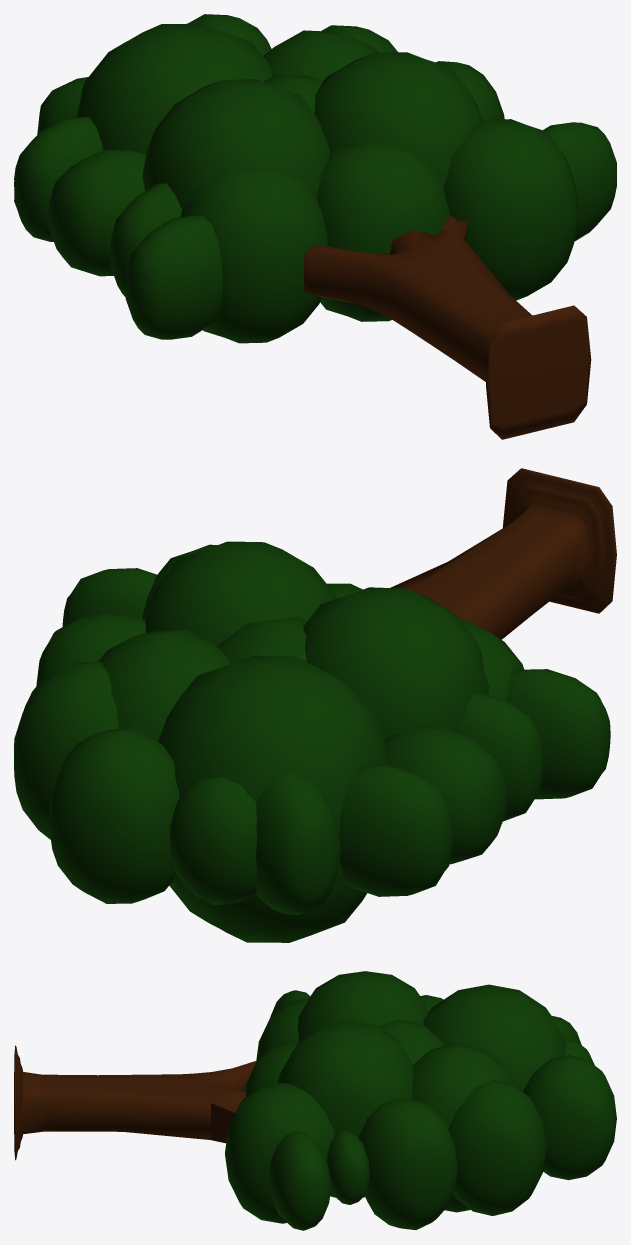
Rendered from Tree2.FBX.
3 renders of one model, top to bottom at view 1: azimuth 30°, elevation 25°; view 2: azimuth 150°, elevation 25°; view 3: azimuth 270°, elevation 25°, orthographic. The views are drawn at different scales.
Parts seen in each view (by area): view 1: Sphere018; view 2: Sphere018; view 3: Sphere018.
Part boxes in pixels (box(x1,y1,x2,y2)): Sphere018: box(14, 14, 616, 439); Sphere018: box(14, 468, 616, 942); Sphere018: box(14, 971, 616, 1230).
Bounding box in the file's own units: 85.38 × 43.07 × 120.
